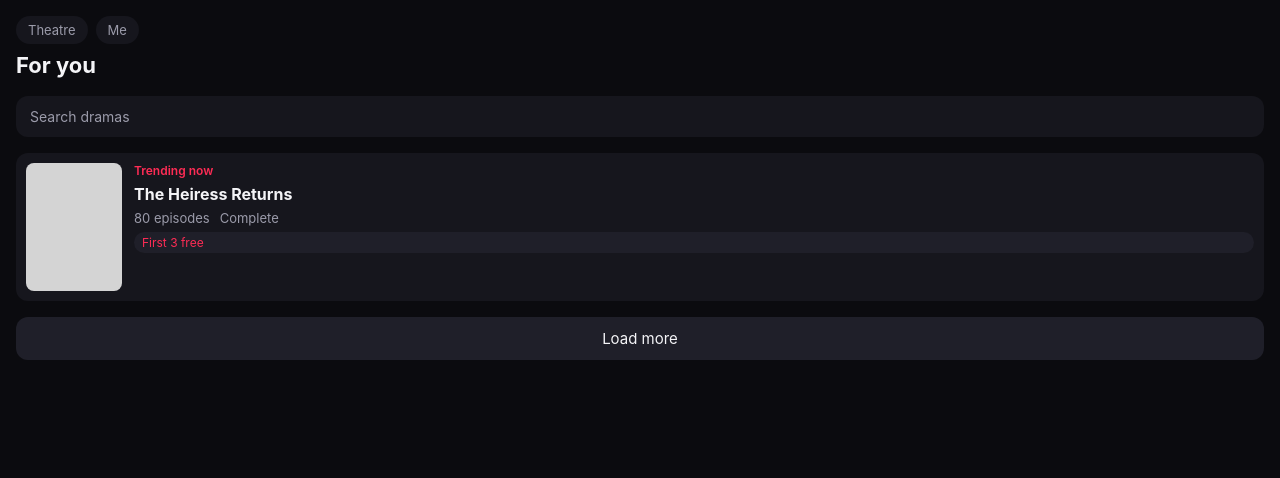
feed paging › appends the next page and stops offering more when the cursor runs out
Click the button with test id "load-more" at [640, 338], box [16, 316, 1264, 360]
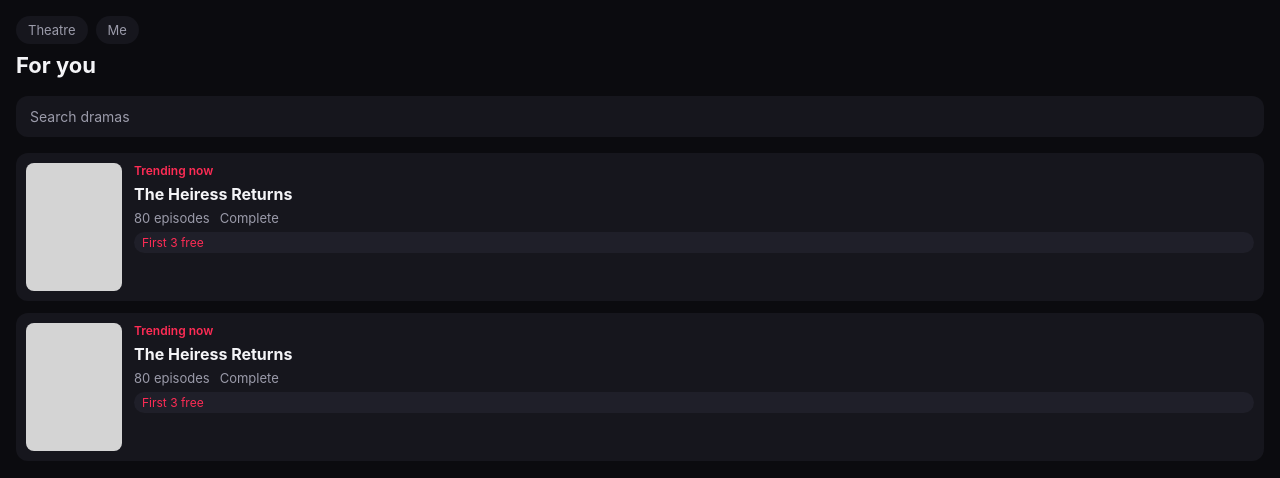
Expected: the button with test id "load-more" is gone
